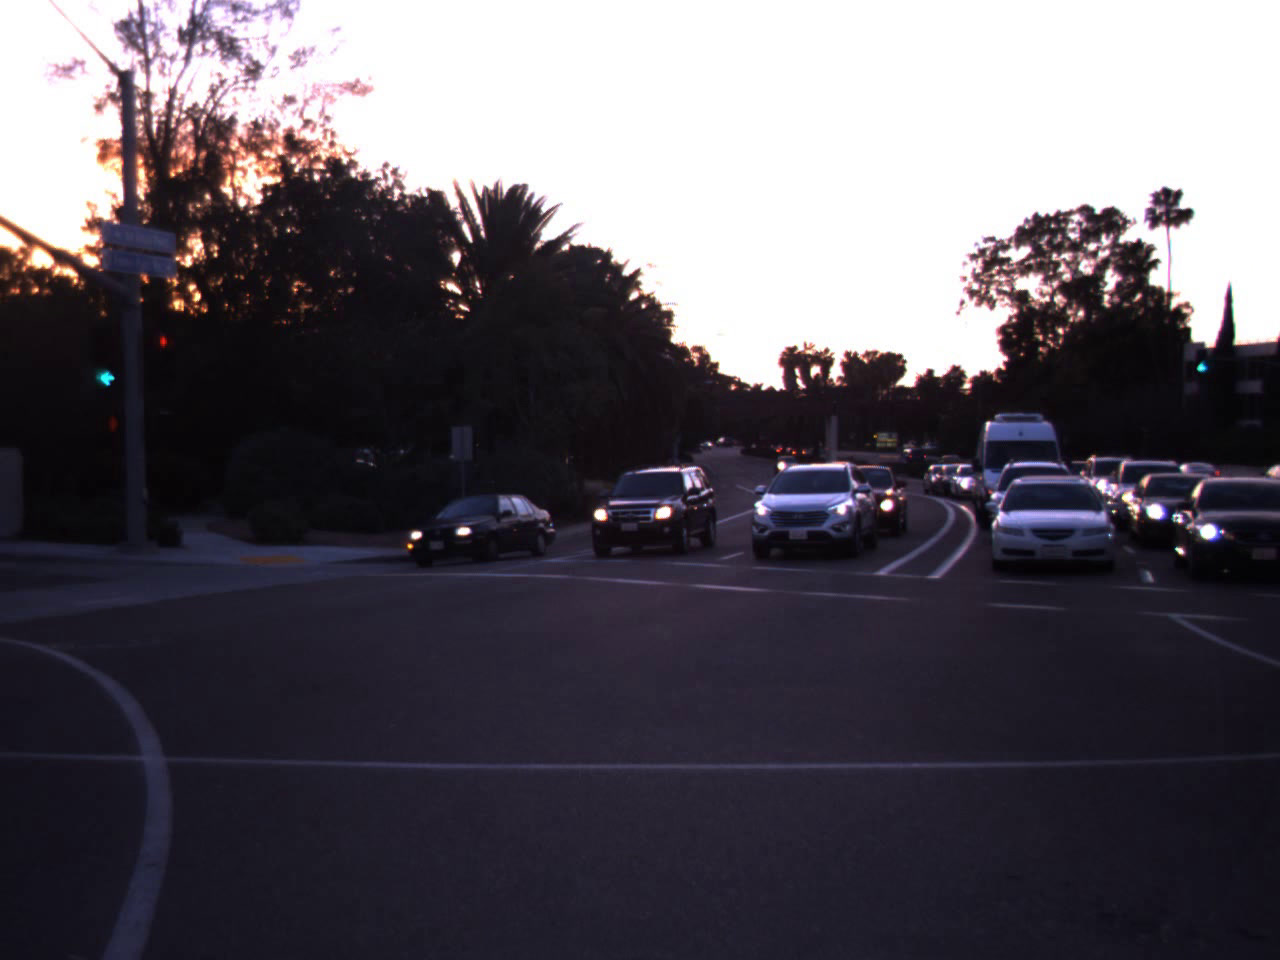go: (65, 297, 146, 397), (1191, 339, 1212, 374)
